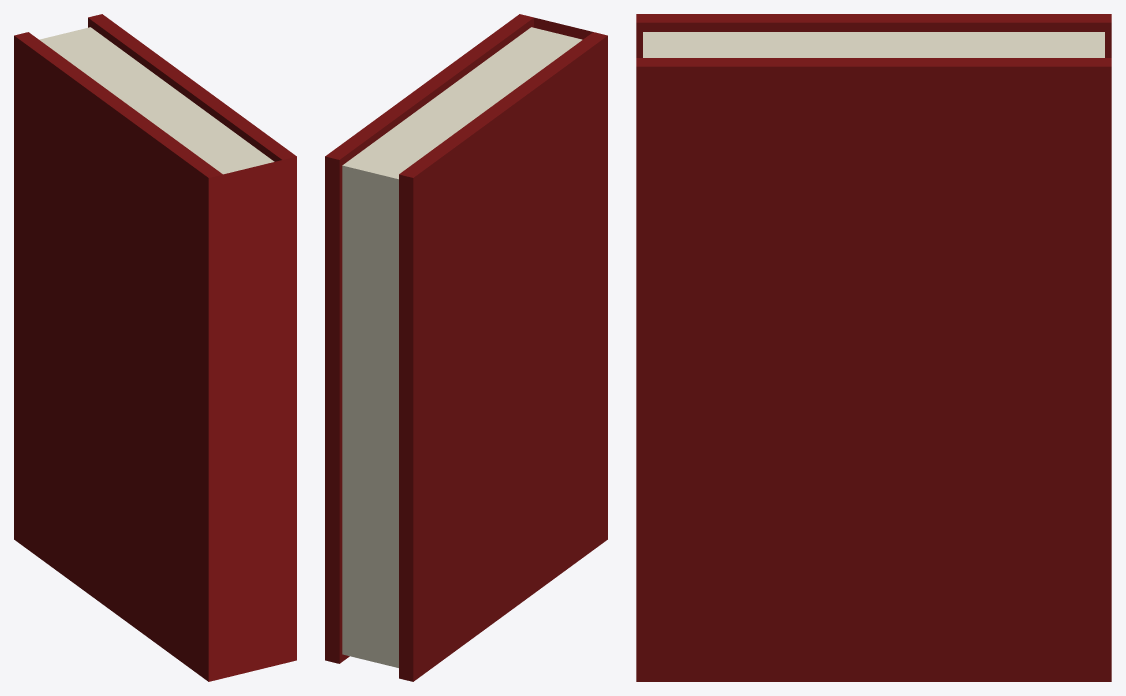
The model's file is book-movies.obj.
The picture shows the model from 3 angles, left to right: view 1: azimuth 30°, elevation 25°; view 2: azimuth 150°, elevation 25°; view 3: azimuth 270°, elevation 25°; orthographic projection. The views are drawn at different scales.
Parts seen in each view (by area): view 1: book-movies; view 2: book-movies; view 3: book-movies.
Part boxes in pixels (x1,y1,x2,y2): book-movies: [14, 14, 296, 681]; book-movies: [325, 14, 607, 681]; book-movies: [636, 14, 1111, 681].
Size of the model in its own units: 0.0733 by 0.4 by 0.28.
